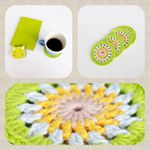cups: (37, 31, 69, 60)
